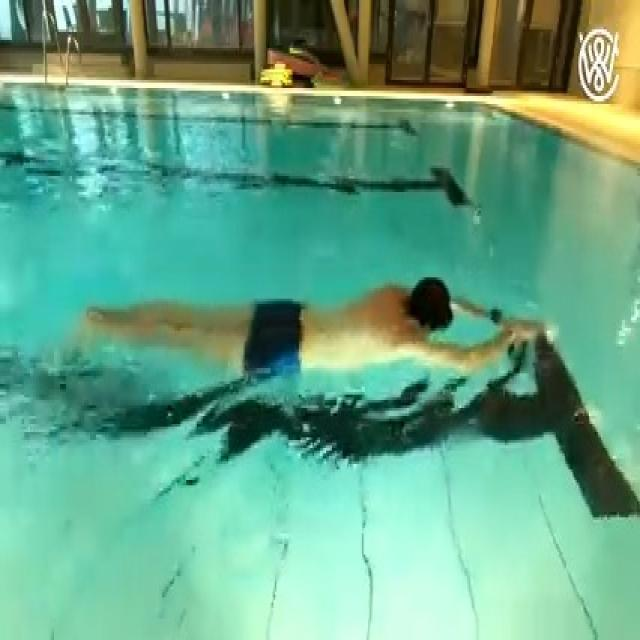Swimming: (79, 278, 549, 371)
